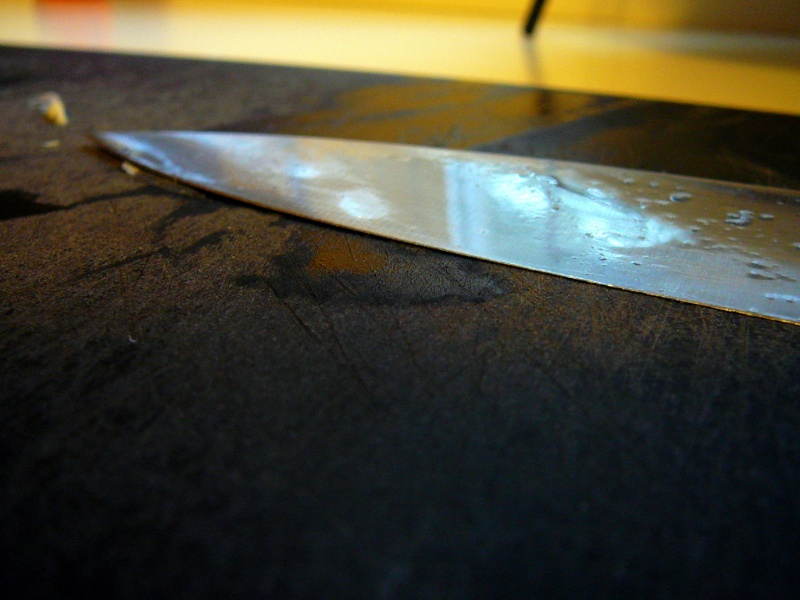knife: (80, 124, 799, 333)
